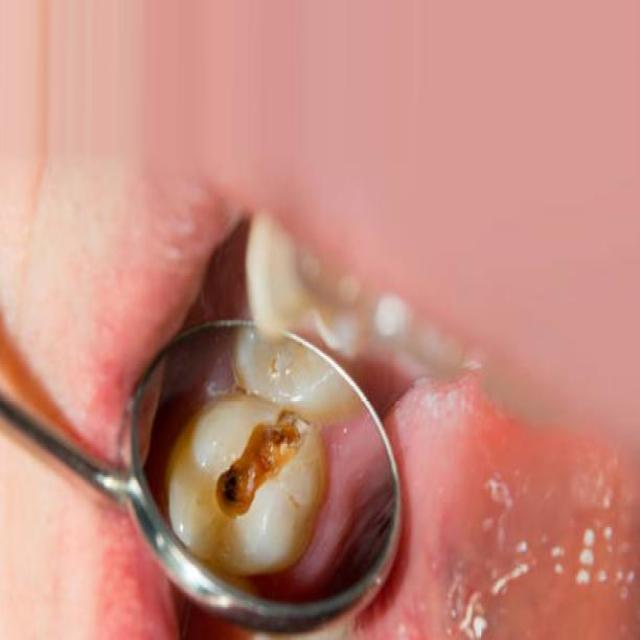caries: (195, 386, 322, 540)
